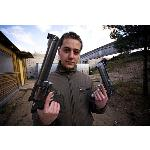Pistol: (28, 32, 60, 110), (92, 61, 116, 102)
